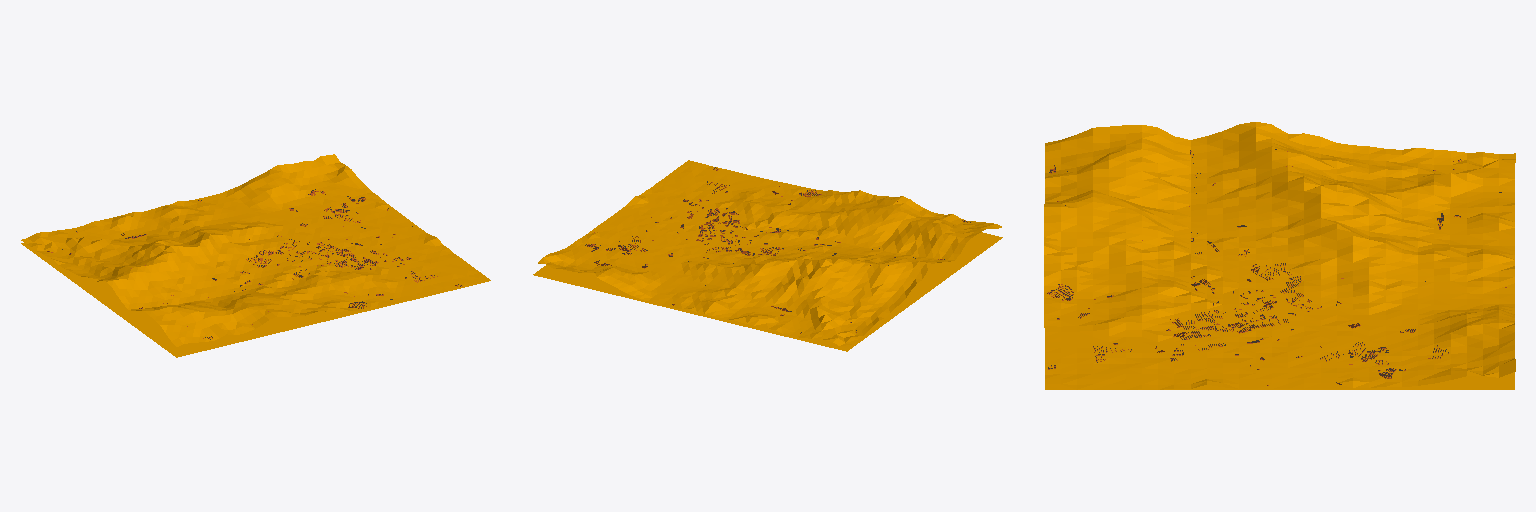
robot.urdf — map:
<?xml version="1.0" ?>
<robot name="map">
  <link name="world">
    <visual name="visual">
      <geometry>
        <!-- <mesh>
          <uri>package://fast_model/meshes/test1.dae</uri>
        </mesh> -->
        <mesh filename="package://fast_model/meshes/test1.dae"/>
      </geometry>
      <!-- <material>
        <script>
          <uri>package://fast_model/materials/scripts</uri>
          <uri>package://fast_model/materials/textures</uri>
          <name>TerrainTest/Test</name>
        </script>
      </material> -->
    </visual>
  </link>
</robot>

--- What the picture shows (computed from the rendered views, not written in the file) ---
The picture shows the robot from 3 angles, left to right: view 1: azimuth 30°, elevation 25°; view 2: azimuth 150°, elevation 25°; view 3: azimuth 270°, elevation 25°; orthographic projection.
Model map with 1 links and 0 joints (none), rooted at world, posed all joints at 0.
Links seen in each view (by area): view 1: world; view 2: world; view 3: world.
Link boxes in pixels (<box>): world: <box>21,154,490,357</box>; world: <box>533,160,1002,351</box>; world: <box>1044,122,1515,389</box>.
Bounding box of the posed robot: 10437 × 8969 × 785 m (x, y, z).
1 mesh visuals loaded from 1 distinct referenced files (1 Collada DAE).